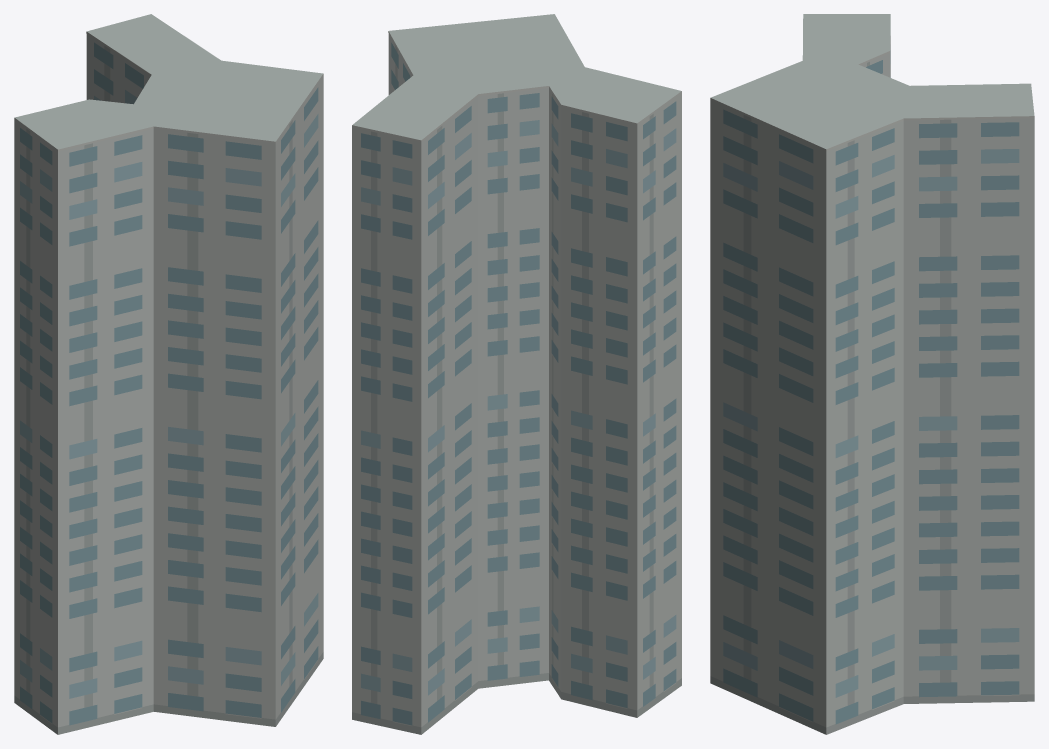
File: residential-898c2a4b-0e9a-4757-98c0-3b1099ffbea1.glb
3 renders of one model, left to right at view 1: azimuth 30°, elevation 25°; view 2: azimuth 150°, elevation 25°; view 3: azimuth 270°, elevation 25°, orthographic.
Visible parts, largest first — view 1: residential-898c2a4b-0e9a-4757-98c0-3b1099ffbea1.tmp; view 2: residential-898c2a4b-0e9a-4757-98c0-3b1099ffbea1.tmp; view 3: residential-898c2a4b-0e9a-4757-98c0-3b1099ffbea1.tmp.
Part boxes in pixels (x1,y1,x2,y2): residential-898c2a4b-0e9a-4757-98c0-3b1099ffbea1.tmp: (14, 14, 323, 734); residential-898c2a4b-0e9a-4757-98c0-3b1099ffbea1.tmp: (352, 14, 681, 734); residential-898c2a4b-0e9a-4757-98c0-3b1099ffbea1.tmp: (710, 14, 1034, 734).
Bounding box in the file's own units: 33.72 × 68 × 34.12.
